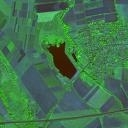alloviz: (46, 41, 78, 80), (70, 52, 79, 63)
